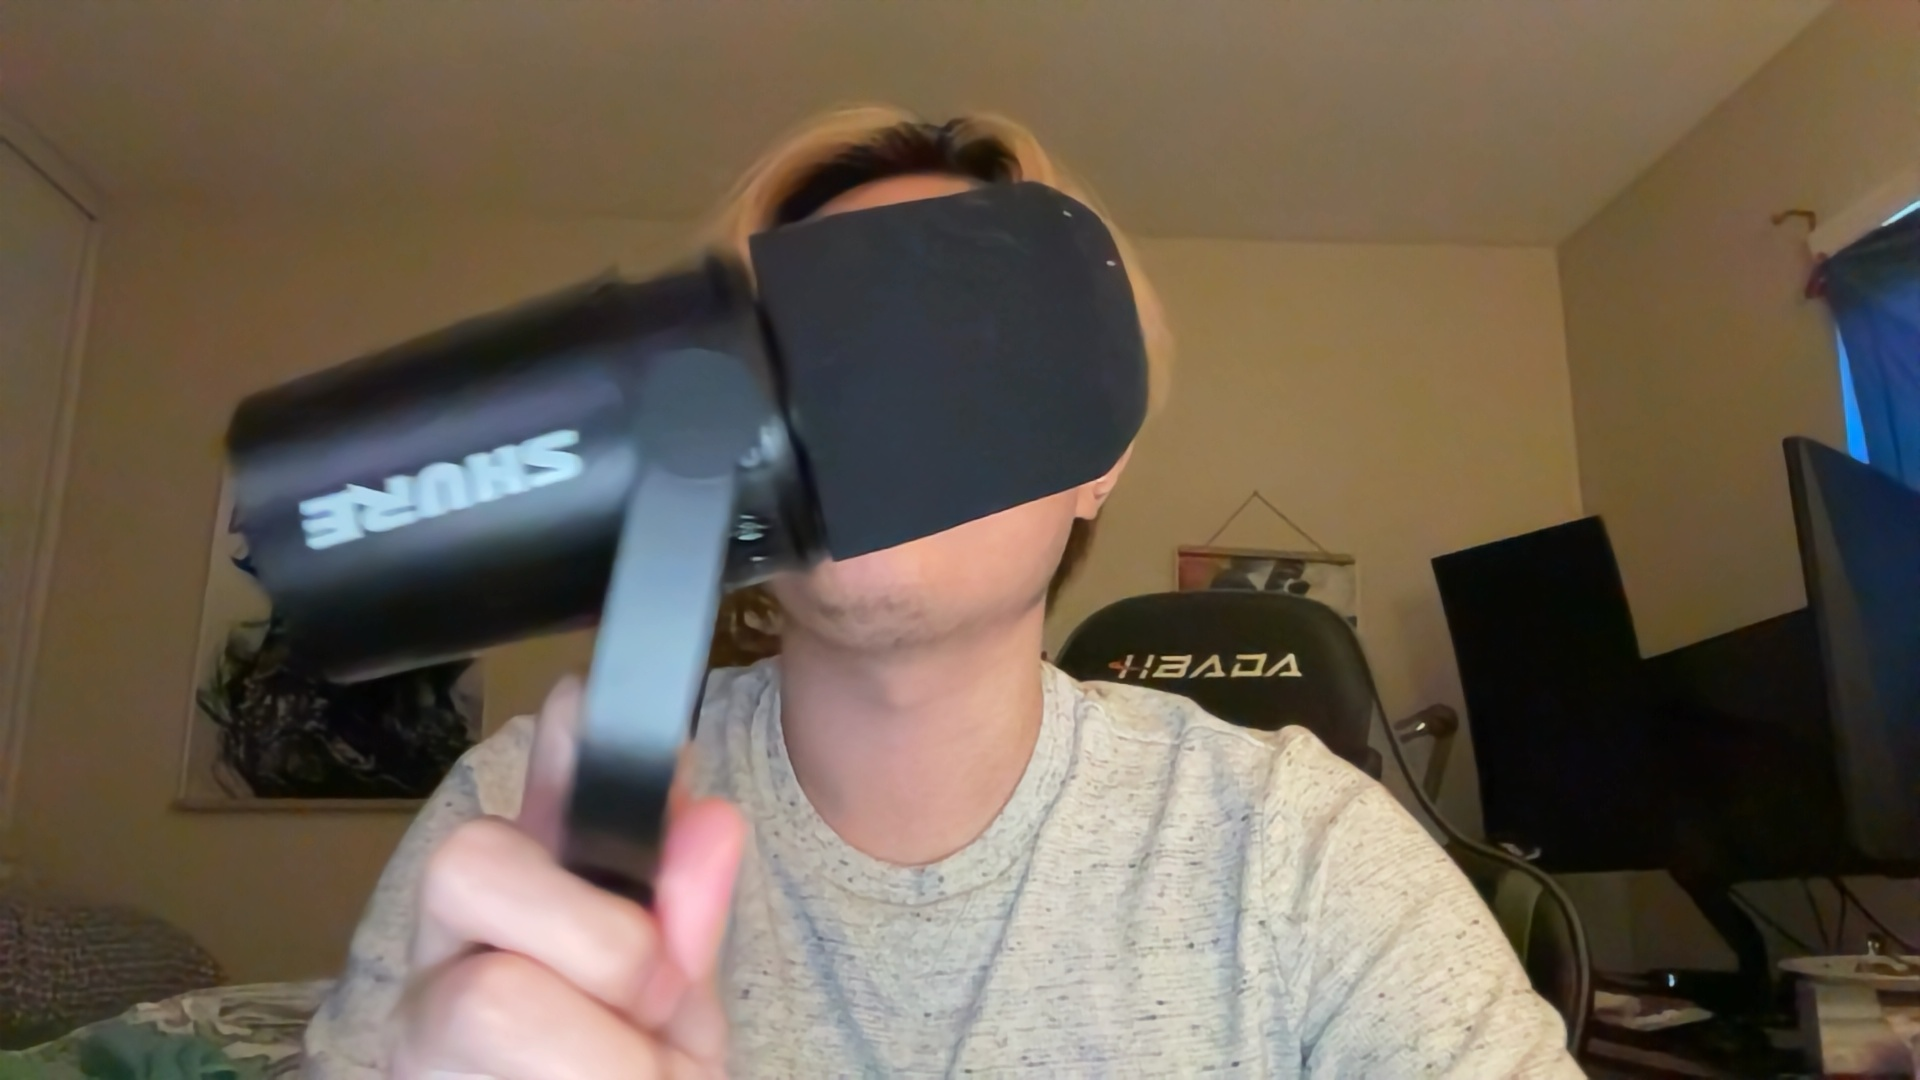microphone: (222, 171, 1156, 890)
